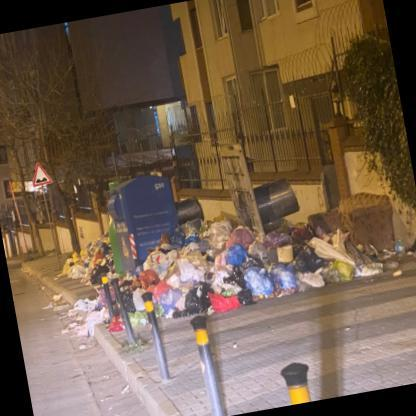Garbage: (220, 198, 357, 299), (182, 210, 256, 322), (148, 252, 207, 313), (58, 240, 111, 283), (70, 286, 110, 337)
